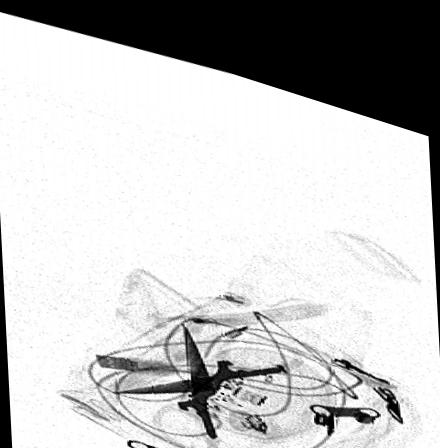Scissors: (100, 308, 311, 445)
